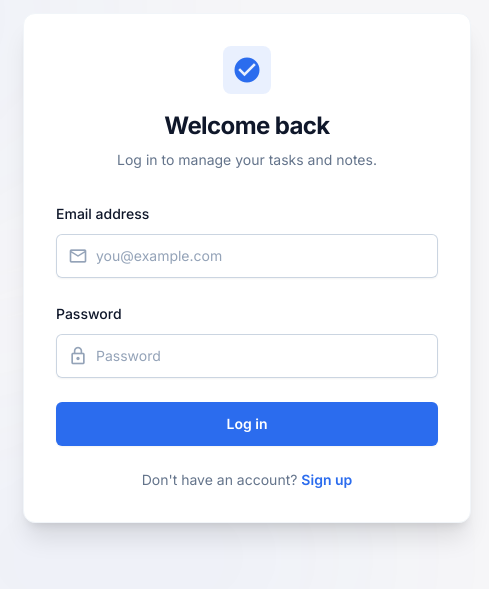
it: Login Page › displays error message on failed login
Type "test@example.com" into the field labelled "Email address".
click(247, 256); type("test@example.com")  # box x1=56 y1=234 x2=438 y2=278
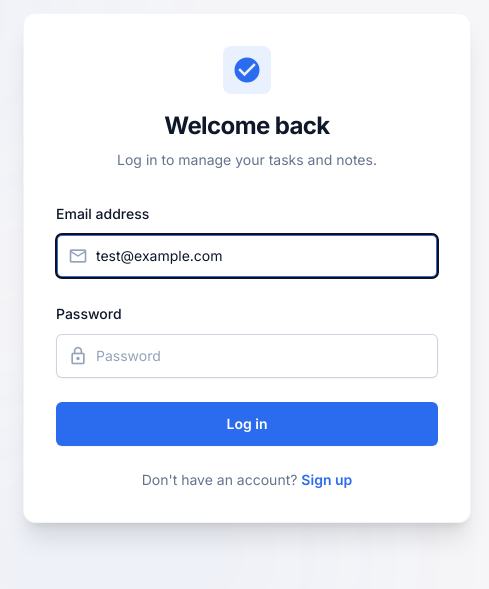
Type "wrongpassword" into the password field labelled "Password".
click(247, 356); type("wrongpassword")  # box x1=56 y1=334 x2=438 y2=378
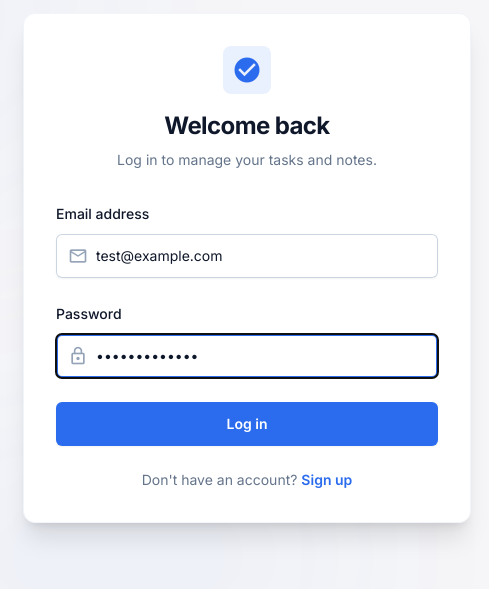
Click the button "Log in".
click(247, 424)  # box x1=56 y1=402 x2=438 y2=446
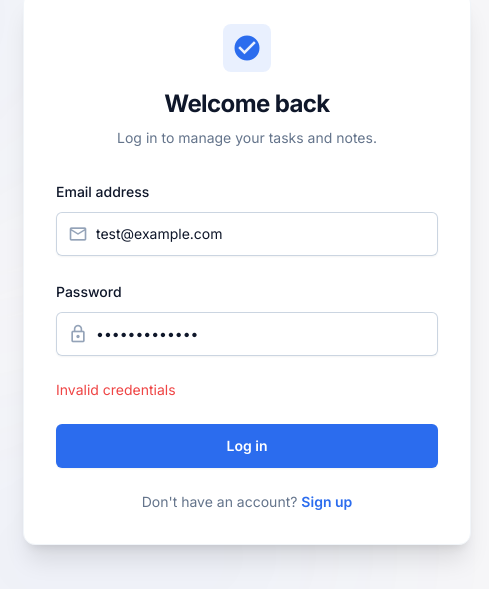
Expected: the text "Invalid credentials" is shown, x1=56 y1=381 x2=176 y2=398
